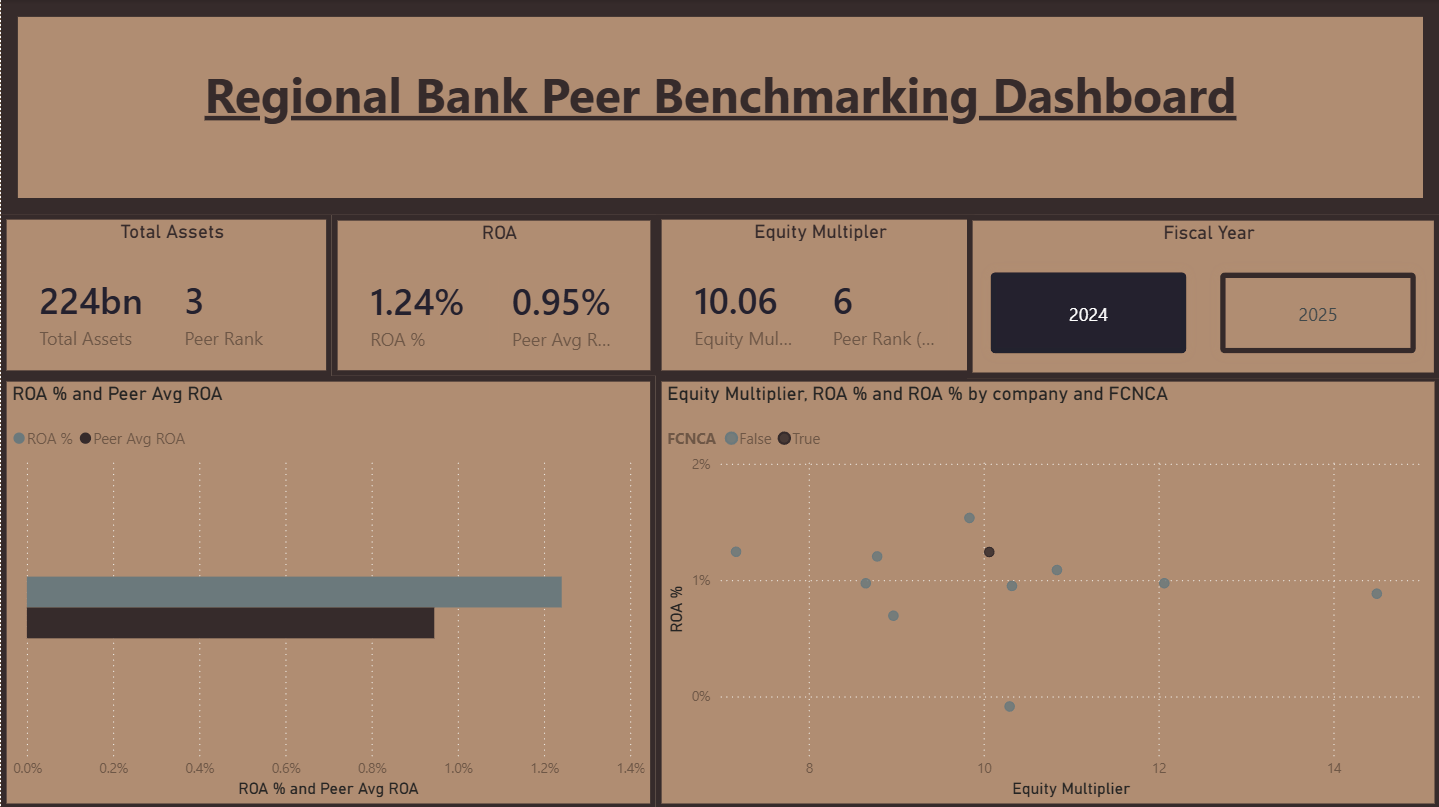

Layout of this report page (visuals, bound fields, positions):
{"tool":"powerbi","page":{"name":"Core Dashboard","canvas":[1280,720],"ordinal":0},"visuals":[{"type":"cardVisual","title":"Total Assets","fields":{"Data":["Facts.Total Assets","Facts.Peer Rank"]},"box":[0,190.2,294.2,144],"z":0},{"type":"cardVisual","title":"ROA ","fields":{"Data":["Facts.ROA %","Facts.Peer Avg ROA"]},"box":[294.2,191.1,288,143.1],"z":1000},{"type":"cardVisual","title":"Equity Multipler","fields":{"Data":["Facts.Equity Multiplier","Facts.Peer Rank (Equity Multiplier)"]},"box":[582.2,190.2,282.7,144],"z":2000},{"type":"clusteredBarChart","fields":{"Y":["Facts.ROA %","Facts.Peer Avg ROA"]},"box":[0,334.2,582.2,384.9],"z":3000},{"type":"scatterChart","fields":{"Category":["DIM_Company.company"],"X":["Facts.Equity Multiplier"],"Y":["Facts.ROA %"],"Series":["DIM_Company.is_subject"]},"box":[582.2,334.2,696.9,384.9],"z":4000},{"type":"advancedSlicerVisual","title":"Fiscal Year","fields":{"Values":["Facts.fiscal_year"]},"box":[858.7,191.1,420.4,144.9],"z":5000},{"type":"textbox","title":"Regional Bank Peer Benchmarking Dashboard","box":[0,0,1279.1,191.1],"z":6000}]}

Visuals, with their boxes in screenshot pixels (x1, y1, x2, y2), scaled from the page's 1280x720 canvas onto the 1439x807 screenshot:
"Total Assets" cardVisual: x1=0 y1=213 x2=331 y2=375
"ROA " cardVisual: x1=331 y1=214 x2=655 y2=375
"Equity Multipler" cardVisual: x1=655 y1=213 x2=972 y2=375
clusteredBarChart - Facts.ROA % x Facts.Peer Avg ROA: x1=0 y1=375 x2=655 y2=806
scatterChart - DIM_Company.company x Facts.Equity Multiplier: x1=655 y1=375 x2=1438 y2=806
"Fiscal Year" advancedSlicerVisual: x1=965 y1=214 x2=1438 y2=377
"Regional Bank Peer Benchmarking Dashboard" textbox: x1=0 y1=0 x2=1438 y2=214
